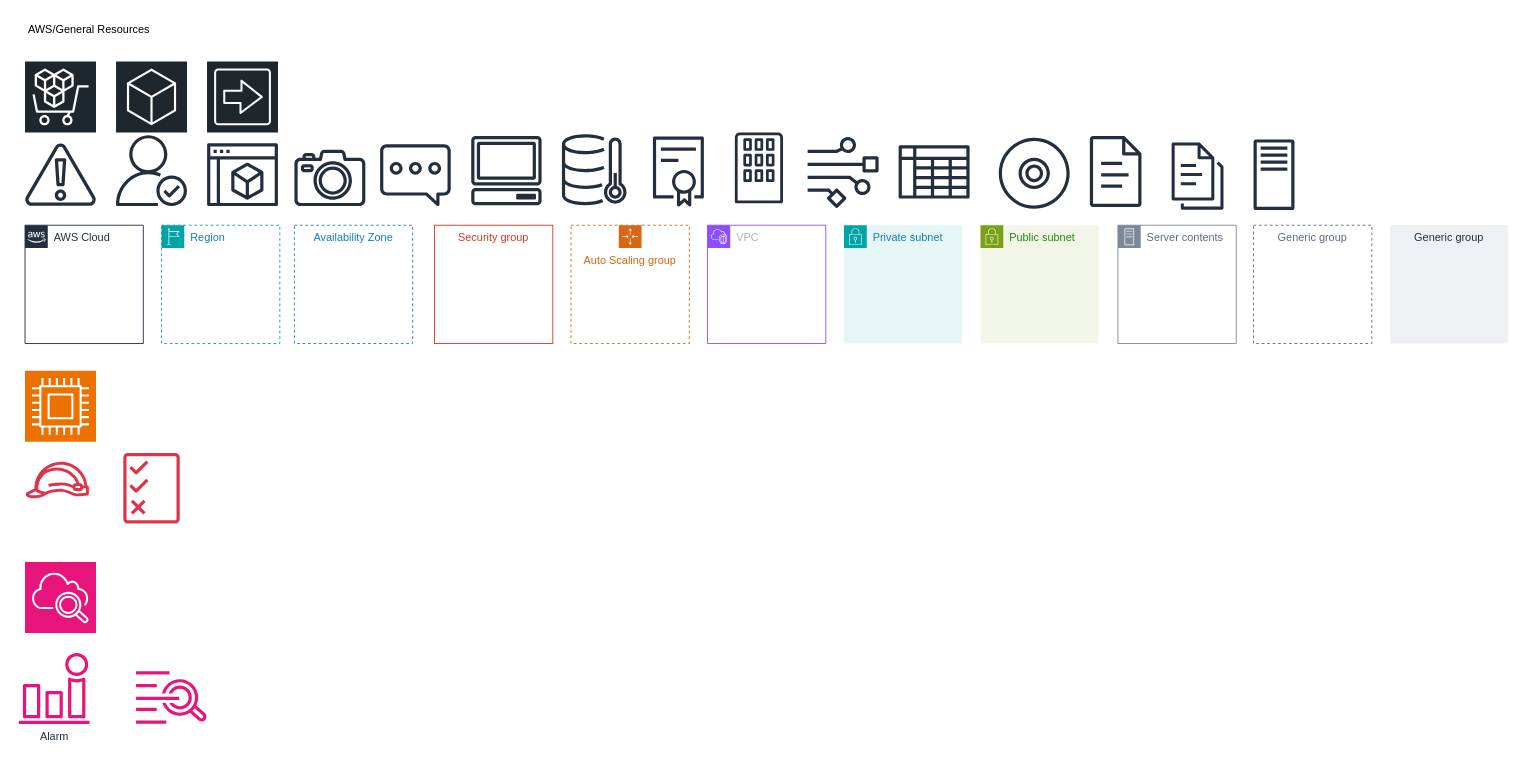
Image size: 1523x758. Some labels were removed from this diagram. Here are the shapes that lost their labels. From the top down, the centre of each, then its label:
point (758, 167): Data Center
point (1273, 174): Server
point (57, 479): IAM Role
point (151, 487): IAM Policy
point (60, 597): CloudWatch
point (171, 697): CloudWatch Logs
